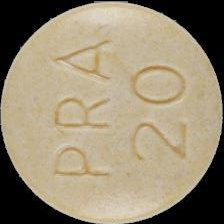0904-5892: (0, 0, 224, 224)
